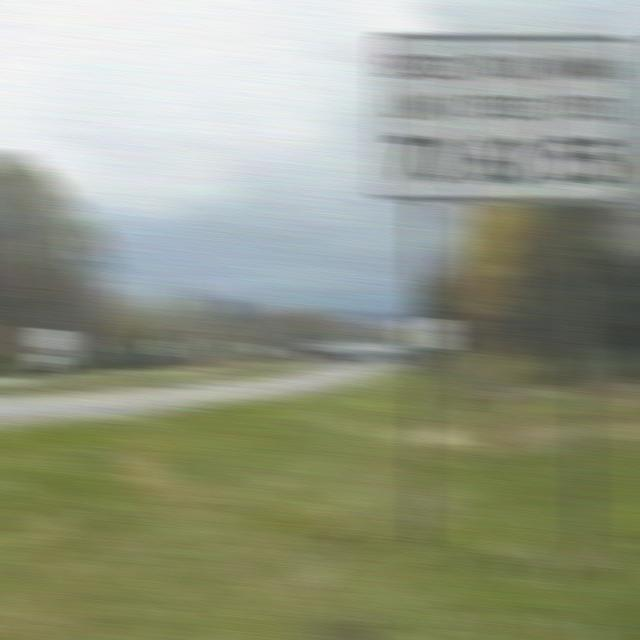speedLimit70: (374, 31, 468, 202)
